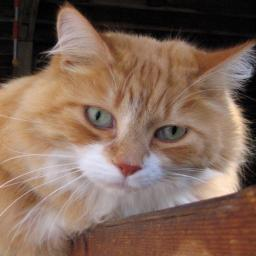catnose: (115, 162, 143, 178)
